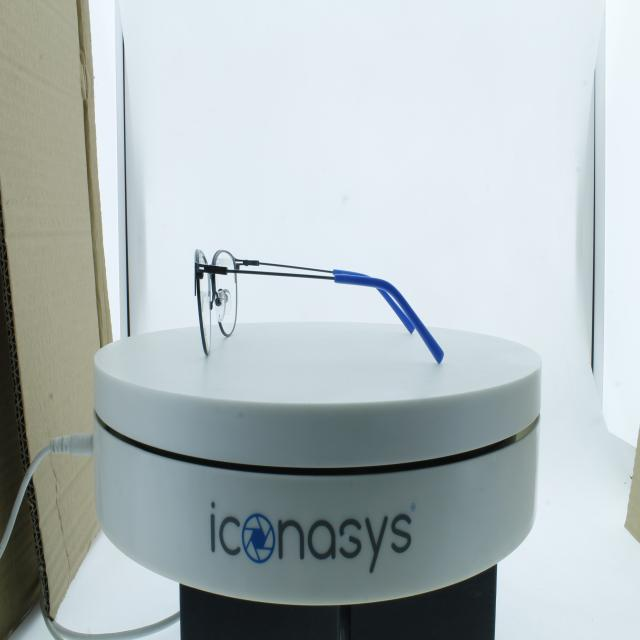Specs: (171, 211, 494, 382)
